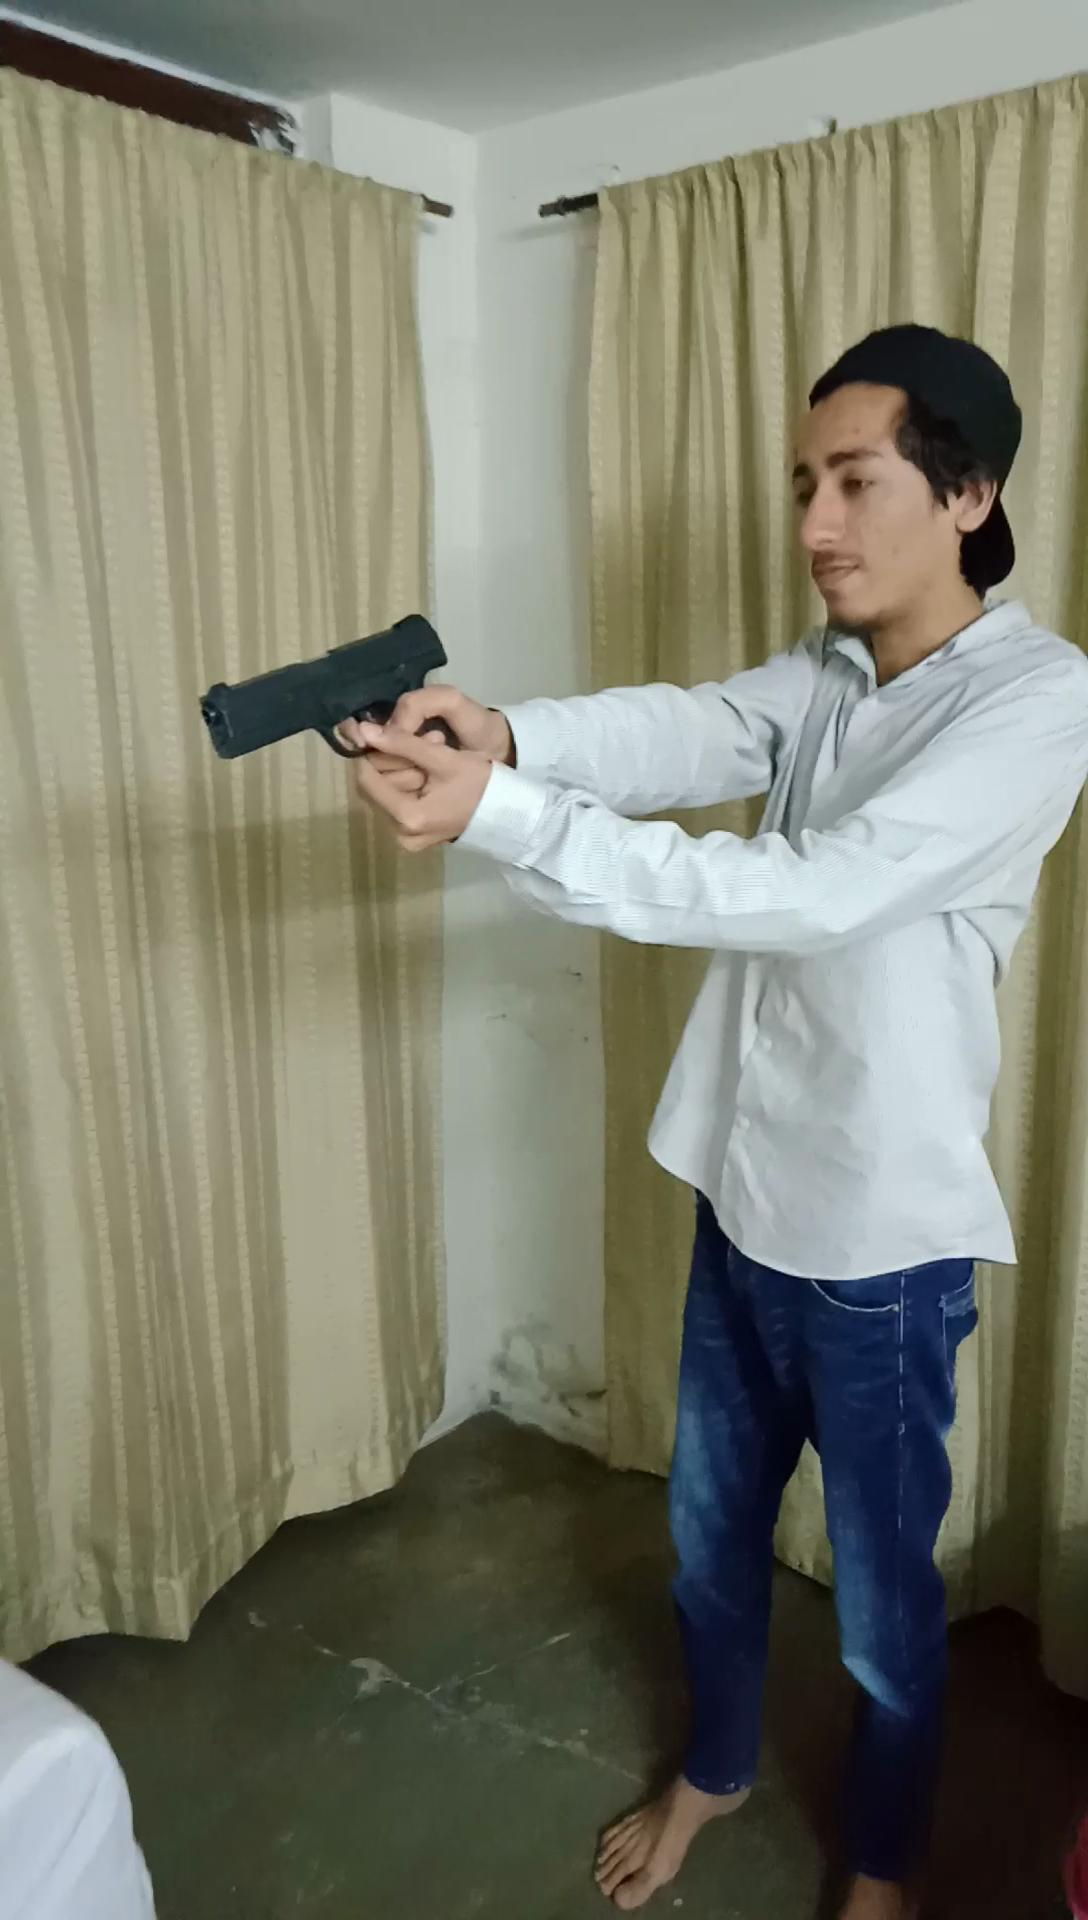criminal: (196, 320, 1088, 1920)
weapon: (196, 611, 476, 793)
